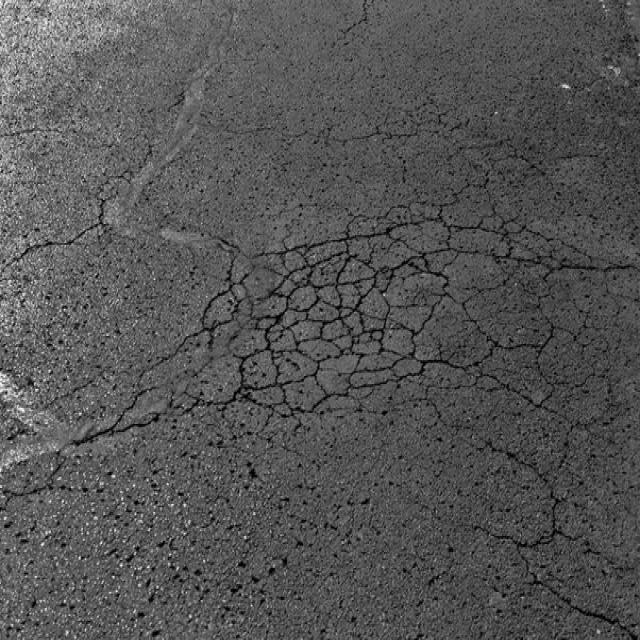Drain Hole: (202, 220, 486, 438)
